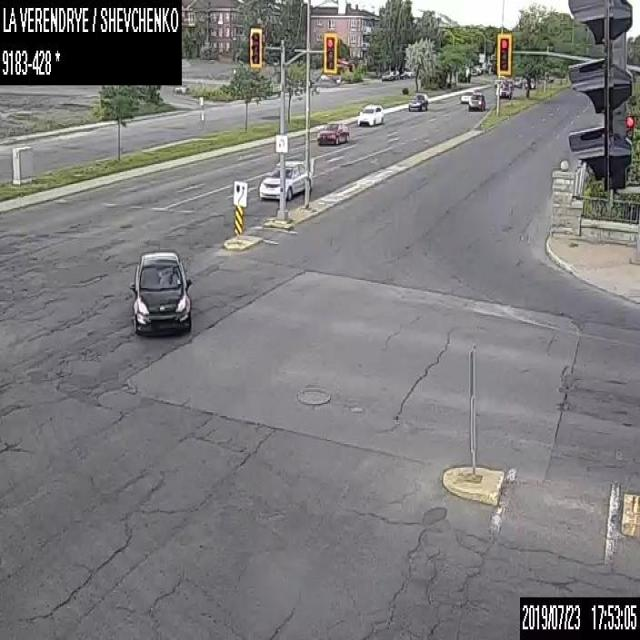vehicle: (130, 250, 192, 330), (257, 160, 313, 198), (317, 120, 348, 146), (356, 103, 383, 125), (407, 91, 428, 111), (468, 92, 484, 110), (495, 82, 511, 98), (460, 88, 474, 101), (381, 69, 393, 80), (525, 76, 535, 88), (494, 74, 506, 84), (512, 76, 522, 87), (504, 78, 513, 88), (392, 68, 399, 78)
